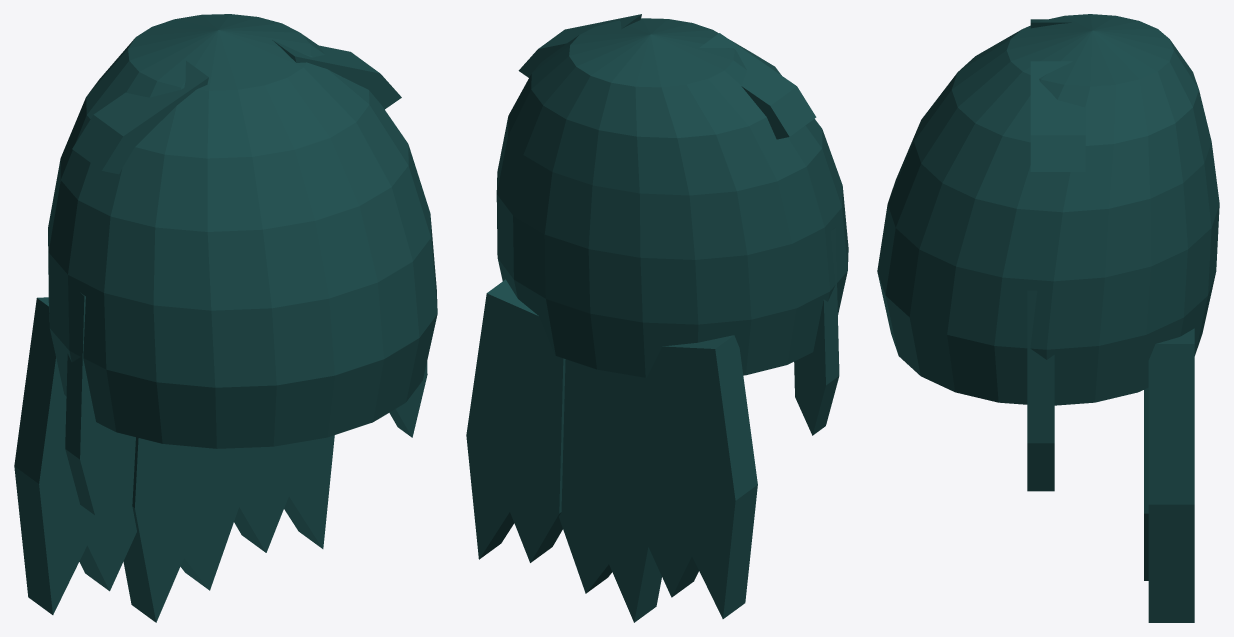
File: hair_boy_mullet_01.glb
3 views of the same model, side by side, from view 1: azimuth 30°, elevation 25°; view 2: azimuth 150°, elevation 25°; view 3: azimuth 270°, elevation 25° (orthographic). The views are drawn at different scales.
Visible parts, largest first — view 1: Mullet_Cap, Mullet_Rear_Panel_L, Mullet_Rear_Panel_C, Mullet_Rear_Panel_R, Mullet_Side_Lock_L, Mullet_Top_Layer_L, Mullet_Top_Layer_R, Mullet_Side_Lock_R; view 2: Mullet_Cap, Mullet_Rear_Panel_L, Mullet_Rear_Panel_R, Mullet_Rear_Panel_C, Mullet_Side_Lock_L, Mullet_Top_Layer_L, Mullet_Top_Layer_R; view 3: Mullet_Cap, Mullet_Rear_Panel_R, Mullet_Top_Layer_R, Mullet_Side_Lock_R, Mullet_Rear_Panel_C.
Boxes of the visible parts, x1,y1,x2,y2 form: Mullet_Cap: (48, 14, 437, 448); Mullet_Rear_Panel_L: (14, 297, 136, 614); Mullet_Rear_Panel_C: (123, 437, 244, 622); Mullet_Rear_Panel_R: (234, 435, 334, 552); Mullet_Side_Lock_L: (65, 292, 115, 514); Mullet_Top_Layer_L: (72, 61, 208, 174); Mullet_Top_Layer_R: (272, 40, 401, 109); Mullet_Side_Lock_R: (389, 361, 427, 437); Mullet_Cap: (496, 18, 848, 377); Mullet_Rear_Panel_L: (638, 335, 757, 618); Mullet_Rear_Panel_R: (466, 279, 565, 562); Mullet_Rear_Panel_C: (559, 359, 661, 622); Mullet_Side_Lock_L: (794, 228, 839, 435); Mullet_Top_Layer_L: (699, 33, 816, 139); Mullet_Top_Layer_R: (518, 14, 641, 77); Mullet_Cap: (877, 14, 1219, 405); Mullet_Rear_Panel_R: (1148, 328, 1194, 622); Mullet_Top_Layer_R: (1030, 61, 1085, 171); Mullet_Side_Lock_R: (1027, 290, 1054, 491); Mullet_Rear_Panel_C: (1144, 387, 1148, 580).
Size of the model in its own units: 0.324 by 0.539 by 0.299.
